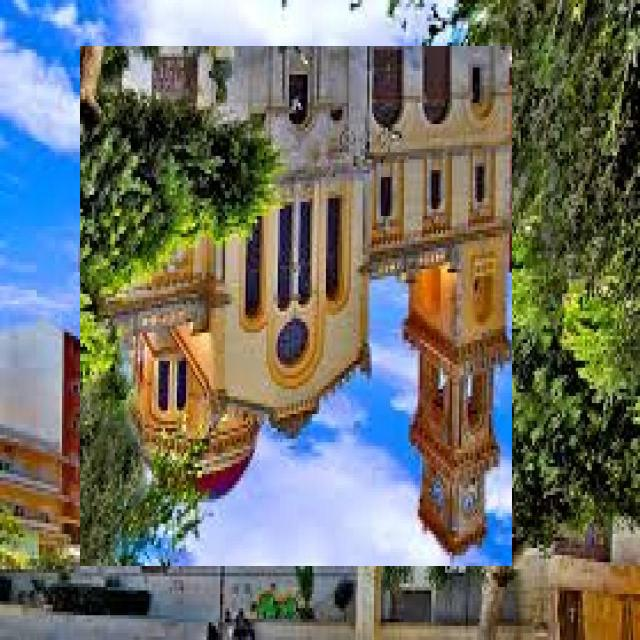Agios Minas: (81, 47, 513, 567)
